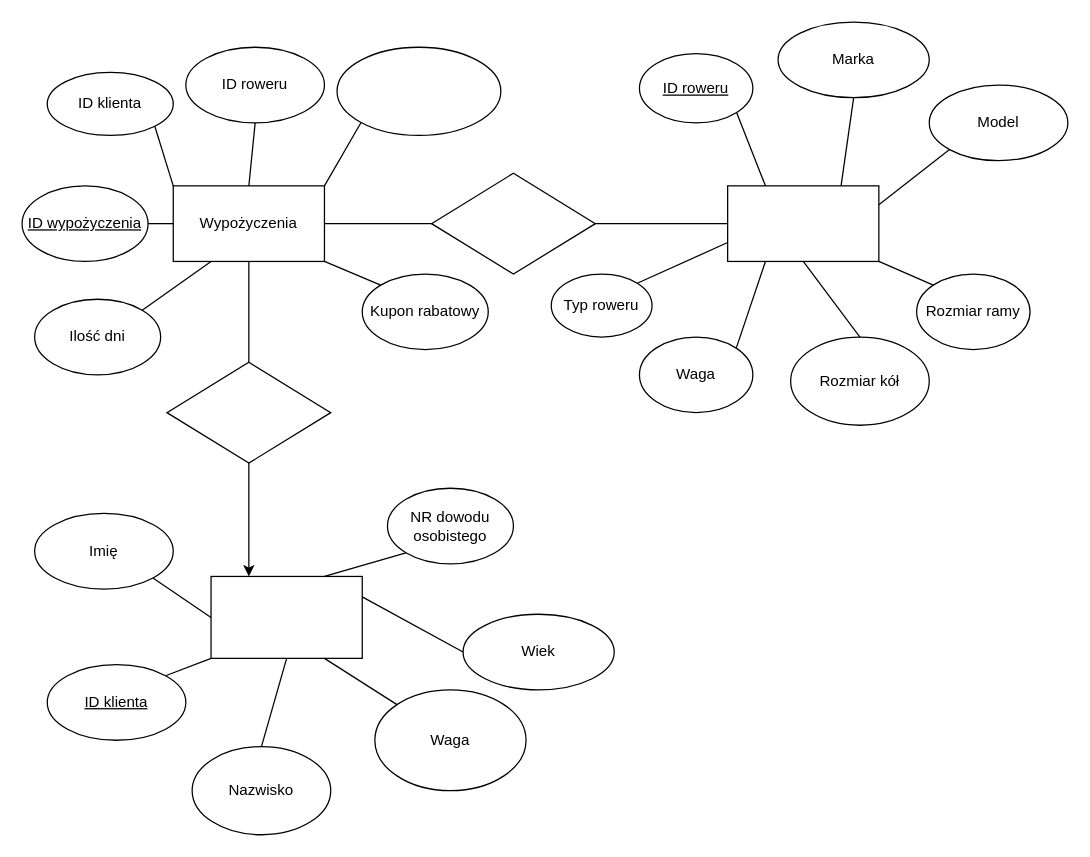
This 1090x857 diagram has some shape labels left out. The shapes that lost their labels are listed below. From the top down, each one's centre as x and y in pixels, then its label:
the point at 418,90: koszt wypożyczenia
the point at 512,223: Dają dostęp do
the point at 802,223: Rowery
the point at 248,412: Kupują
the point at 286,616: klienci
